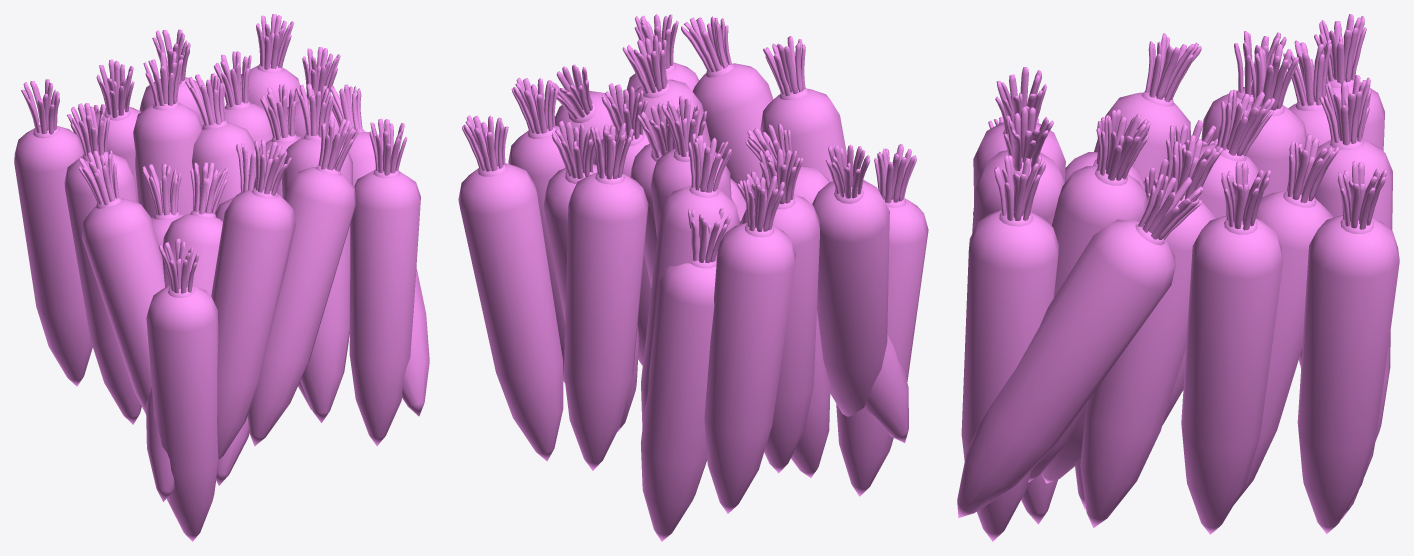
Rendered from Nabos_Medio.FBX.
3 views of the same model, side by side, from view 1: azimuth 30°, elevation 25°; view 2: azimuth 150°, elevation 25°; view 3: azimuth 270°, elevation 25° (orthographic). The views are drawn at different scales.
Parts seen in each view (by area): view 1: Capsule038, Capsule046, Capsule036, Capsule037, Capsule081, Capsule072, Capsule073, Capsule039, Capsule064, Capsule045, Capsule040, Capsule084 (+8 smaller); view 2: Capsule075, Capsule065, Capsule081, Capsule083, Capsule072, Capsule073, Capsule046, Capsule037, Capsule074, Capsule036, Capsule086, Capsule066 (+8 smaller); view 3: Capsule040, Capsule075, Capsule086, Capsule038, Capsule085, Capsule066, Capsule039, Capsule065, Capsule072, Capsule064, Capsule037, Capsule084 (+8 smaller).
Boxes of the visible parts, x1,y1,x2,y2 form: Capsule038: [349, 118, 420, 445]; Capsule046: [146, 238, 218, 541]; Capsule036: [211, 140, 295, 459]; Capsule037: [247, 117, 359, 446]; Capsule081: [14, 79, 92, 386]; Capsule072: [78, 150, 164, 413]; Capsule073: [64, 103, 141, 424]; Capsule039: [282, 83, 352, 422]; Capsule064: [133, 51, 202, 217]; Capsule045: [146, 162, 228, 501]; Capsule040: [329, 84, 429, 416]; Capsule084: [185, 73, 255, 211]; Capsule075: [458, 115, 563, 461]; Capsule065: [564, 123, 648, 470]; Capsule081: [704, 175, 795, 513]; Capsule083: [640, 208, 731, 541]; Capsule072: [812, 144, 889, 416]; Capsule073: [741, 148, 819, 473]; Capsule046: [836, 144, 928, 496]; Capsule037: [681, 16, 773, 183]; Capsule074: [641, 133, 740, 428]; Capsule036: [760, 36, 847, 181]; Capsule086: [508, 77, 573, 382]; Capsule066: [543, 120, 639, 432]; Capsule040: [957, 174, 1203, 517]; Capsule075: [1297, 161, 1399, 533]; Capsule086: [1181, 162, 1283, 534]; Capsule038: [961, 155, 1058, 541]; Capsule085: [1080, 135, 1223, 527]; Capsule066: [1234, 134, 1339, 504]; Capsule039: [1028, 114, 1150, 482]; Capsule065: [1314, 75, 1392, 447]; Capsule072: [1094, 33, 1201, 181]; Capsule064: [1217, 43, 1306, 197]; Capsule037: [972, 106, 1064, 233]; Capsule084: [1162, 89, 1274, 424].
Bounding box in the file's own units: 73.16 × 94.57 × 73.51.
